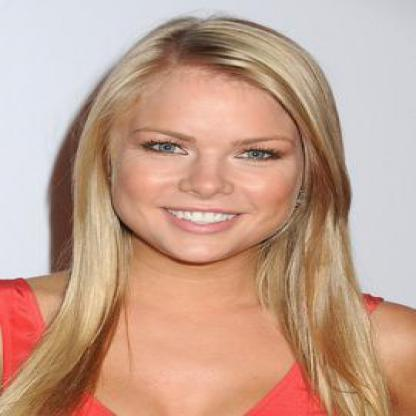long-hair: (51, 266, 370, 322)
